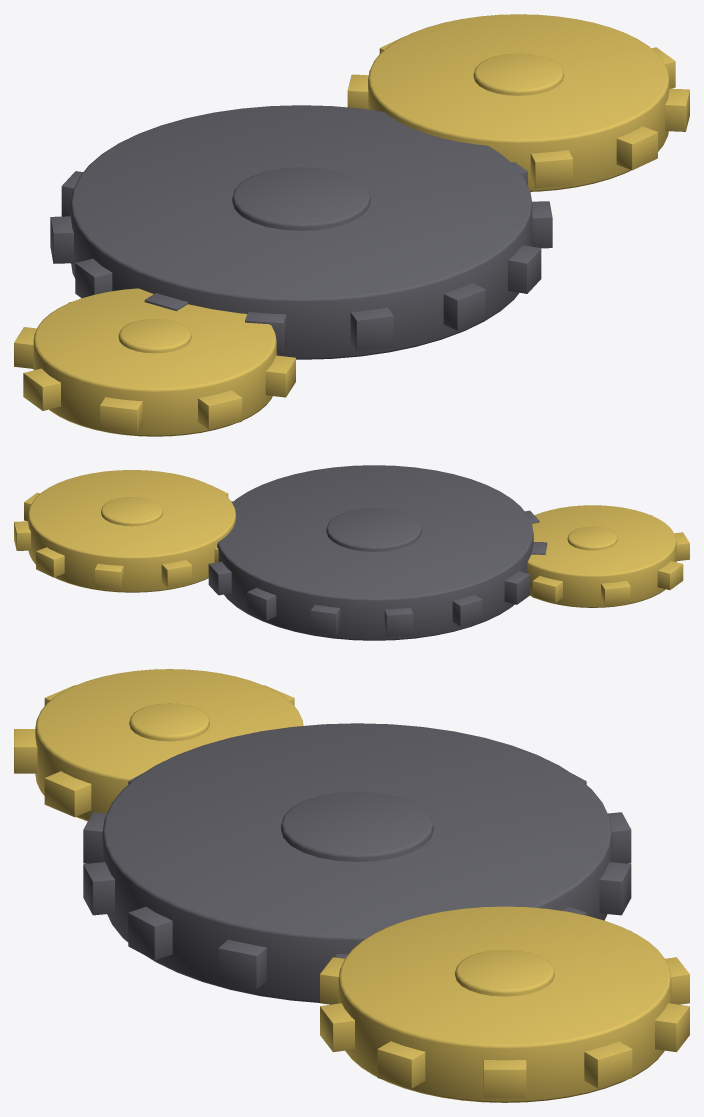
The model's file is gears.glb.
3 renders of one model, top to bottom at view 1: azimuth 30°, elevation 25°; view 2: azimuth 150°, elevation 25°; view 3: azimuth 270°, elevation 25°, orthographic. The views are drawn at different scales.
Visible parts, largest first — view 1: Cylinder, Cylinder.002, Cylinder.004, Cylinder.001, Cylinder.003, Cylinder.005, Cube.010, Cube.011, Cube.021, Cube.022, Cube.030, Cube.029 (+10 smaller); view 2: Cylinder, Cylinder.002, Cylinder.004, Cylinder.001, Cylinder.003, Cylinder.005, Cube.004, Cube.006, Cube.005, Cube.003, Cube.007, Cube.018 (+8 smaller); view 3: Cylinder, Cylinder.002, Cylinder.004, Cylinder.001, Cylinder.003, Cylinder.005, Cube.013, Cube.012, Cube.015, Cube.023, Cube.014, Cube.031 (+9 smaller).
Part boxes in pixels (x1=…): Cylinder: x1=70, y1=105, x2=532, y2=359; Cylinder.002: x1=368, y1=14, x2=669, y2=191; Cylinder.004: x1=33, y1=288, x2=276, y2=436; Cylinder.001: x1=232, y1=167, x2=370, y2=230; Cylinder.003: x1=473, y1=53, x2=563, y2=95; Cylinder.005: x1=118, y1=319, x2=191, y2=353; Cube.010: x1=350, y1=307, x2=393, y2=351; Cube.011: x1=443, y1=283, x2=485, y2=330; Cube.021: x1=530, y1=150, x2=572, y2=188; Cube.022: x1=616, y1=126, x2=657, y2=170; Cube.030: x1=198, y1=390, x2=242, y2=429; Cube.029: x1=100, y1=397, x2=142, y2=433; Cylinder: x1=217, y1=465, x2=533, y2=640; Cylinder.002: x1=28, y1=470, x2=235, y2=592; Cylinder.004: x1=527, y1=505, x2=676, y2=607; Cylinder.001: x1=326, y1=508, x2=421, y2=551; Cylinder.003: x1=101, y1=497, x2=163, y2=526; Cylinder.005: x1=567, y1=526, x2=617, y2=550; Cube.004: x1=310, y1=605, x2=340, y2=634; Cube.006: x1=452, y1=594, x2=482, y2=626; Cube.005: x1=384, y1=607, x2=413, y2=636; Cube.003: x1=247, y1=587, x2=276, y2=620; Cube.007: x1=504, y1=571, x2=530, y2=604; Cube.018: x1=161, y1=560, x2=191, y2=587; Cylinder: x1=102, y1=723, x2=612, y2=1002; Cylinder.002: x1=338, y1=906, x2=671, y2=1102; Cylinder.004: x1=35, y1=669, x2=303, y2=821; Cylinder.001: x1=281, y1=792, x2=433, y2=861; Cylinder.003: x1=455, y1=950, x2=554, y2=996; Cylinder.005: x1=129, y1=703, x2=209, y2=741; Cube.013: x1=218, y1=939, x2=266, y2=989; Cube.012: x1=128, y1=906, x2=172, y2=960; Cube.015: x1=584, y1=1041, x2=632, y2=1088; Cube.023: x1=377, y1=1041, x2=425, y2=1088; Cube.014: x1=483, y1=1060, x2=526, y2=1098; Cube.031: x1=44, y1=771, x2=91, y2=817.
Bounding box in the file's own units: 3.73 × 0.376 × 2.52.
